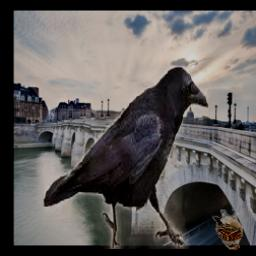Crow: (44, 67, 208, 250)
Sparrow: (212, 209, 243, 250)
